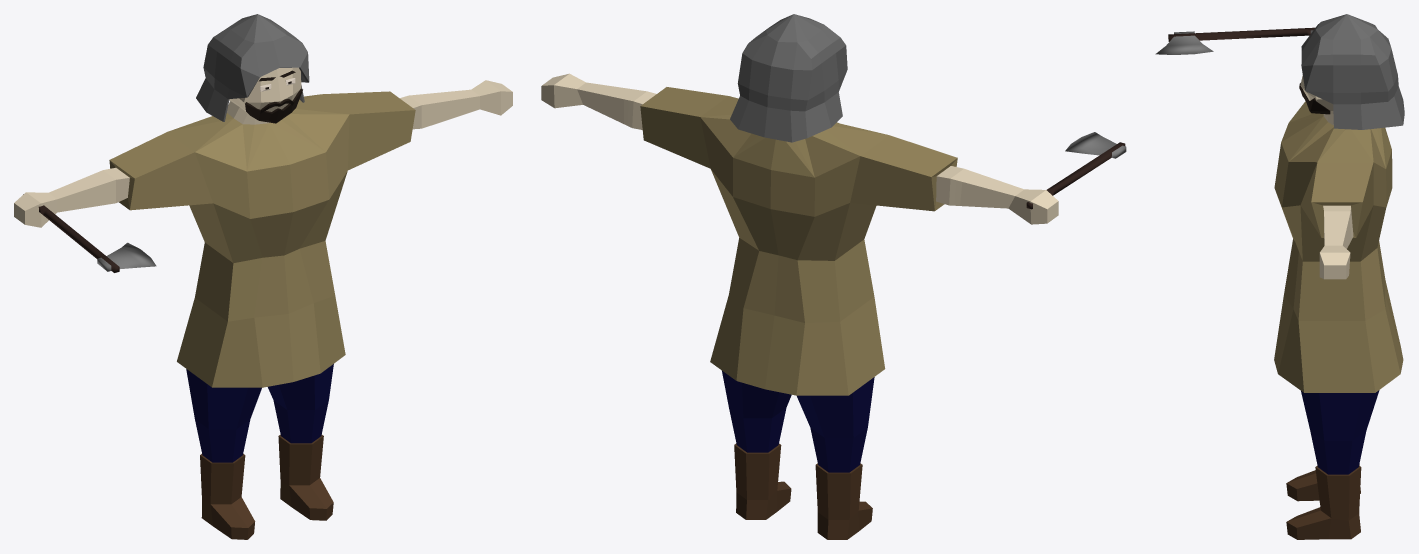
File: Enemy.fbx
3 views of the same model, side by side, from view 1: azimuth 30°, elevation 25°; view 2: azimuth 150°, elevation 25°; view 3: azimuth 270°, elevation 25° (orthographic). The views are drawn at different scales.
Visible parts, largest first — view 1: Cylinder.001, Cylinder.002; view 2: Cylinder.001, Cylinder.002; view 3: Cylinder.001, Cylinder.002.
Part boxes in pixels (x1=…): Cylinder.001: x1=14, y1=14, x2=512, y2=539; Cylinder.002: x1=23, y1=194, x2=156, y2=272; Cylinder.001: x1=541, y1=14, x2=1058, y2=539; Cylinder.002: x1=1026, y1=132, x2=1126, y2=209; Cylinder.001: x1=1274, y1=14, x2=1404, y2=539; Cylinder.002: x1=1155, y1=27, x2=1314, y2=54.
Bounding box in the file's own units: 180 × 175 × 78.89.
